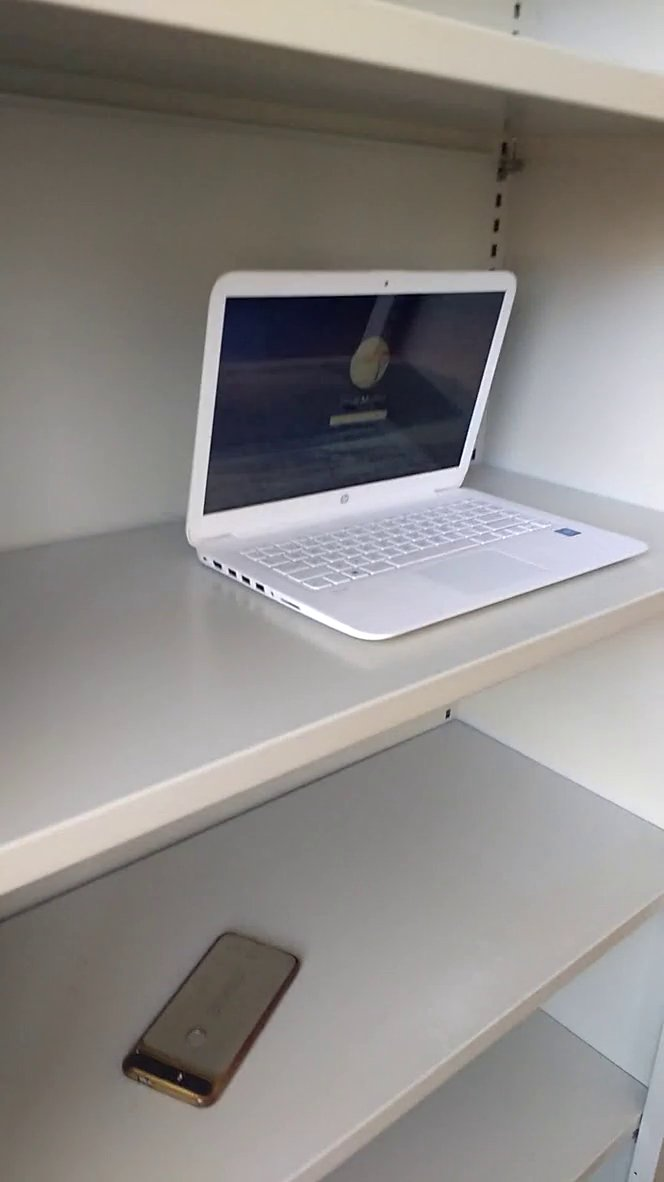laptop: (166, 250, 664, 651)
phone: (115, 916, 318, 1125)
